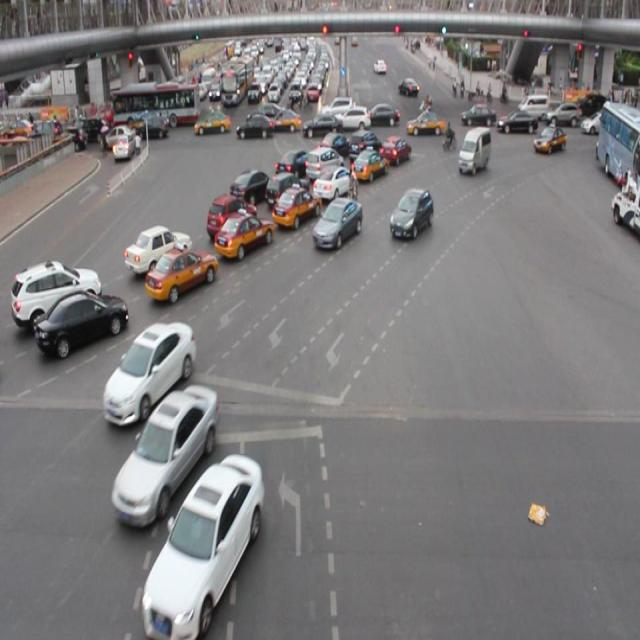car: (144, 452, 259, 632), (111, 389, 214, 521), (104, 321, 192, 424), (35, 291, 127, 354), (13, 260, 101, 324), (145, 245, 217, 300), (126, 224, 191, 274), (214, 208, 274, 258), (313, 196, 363, 251), (206, 194, 257, 238), (389, 188, 432, 239), (272, 186, 320, 228), (264, 170, 308, 208), (313, 165, 353, 201), (231, 170, 270, 206), (350, 146, 387, 182), (274, 148, 312, 183), (347, 130, 380, 162), (379, 134, 410, 166), (533, 121, 565, 152), (318, 129, 349, 157)
truck: (457, 126, 490, 173), (306, 147, 343, 182)
